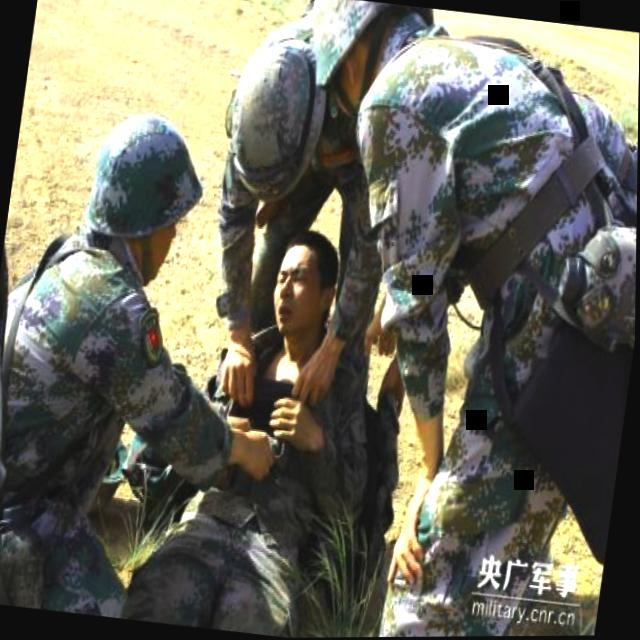Fall-Detected: (113, 193, 409, 639)
